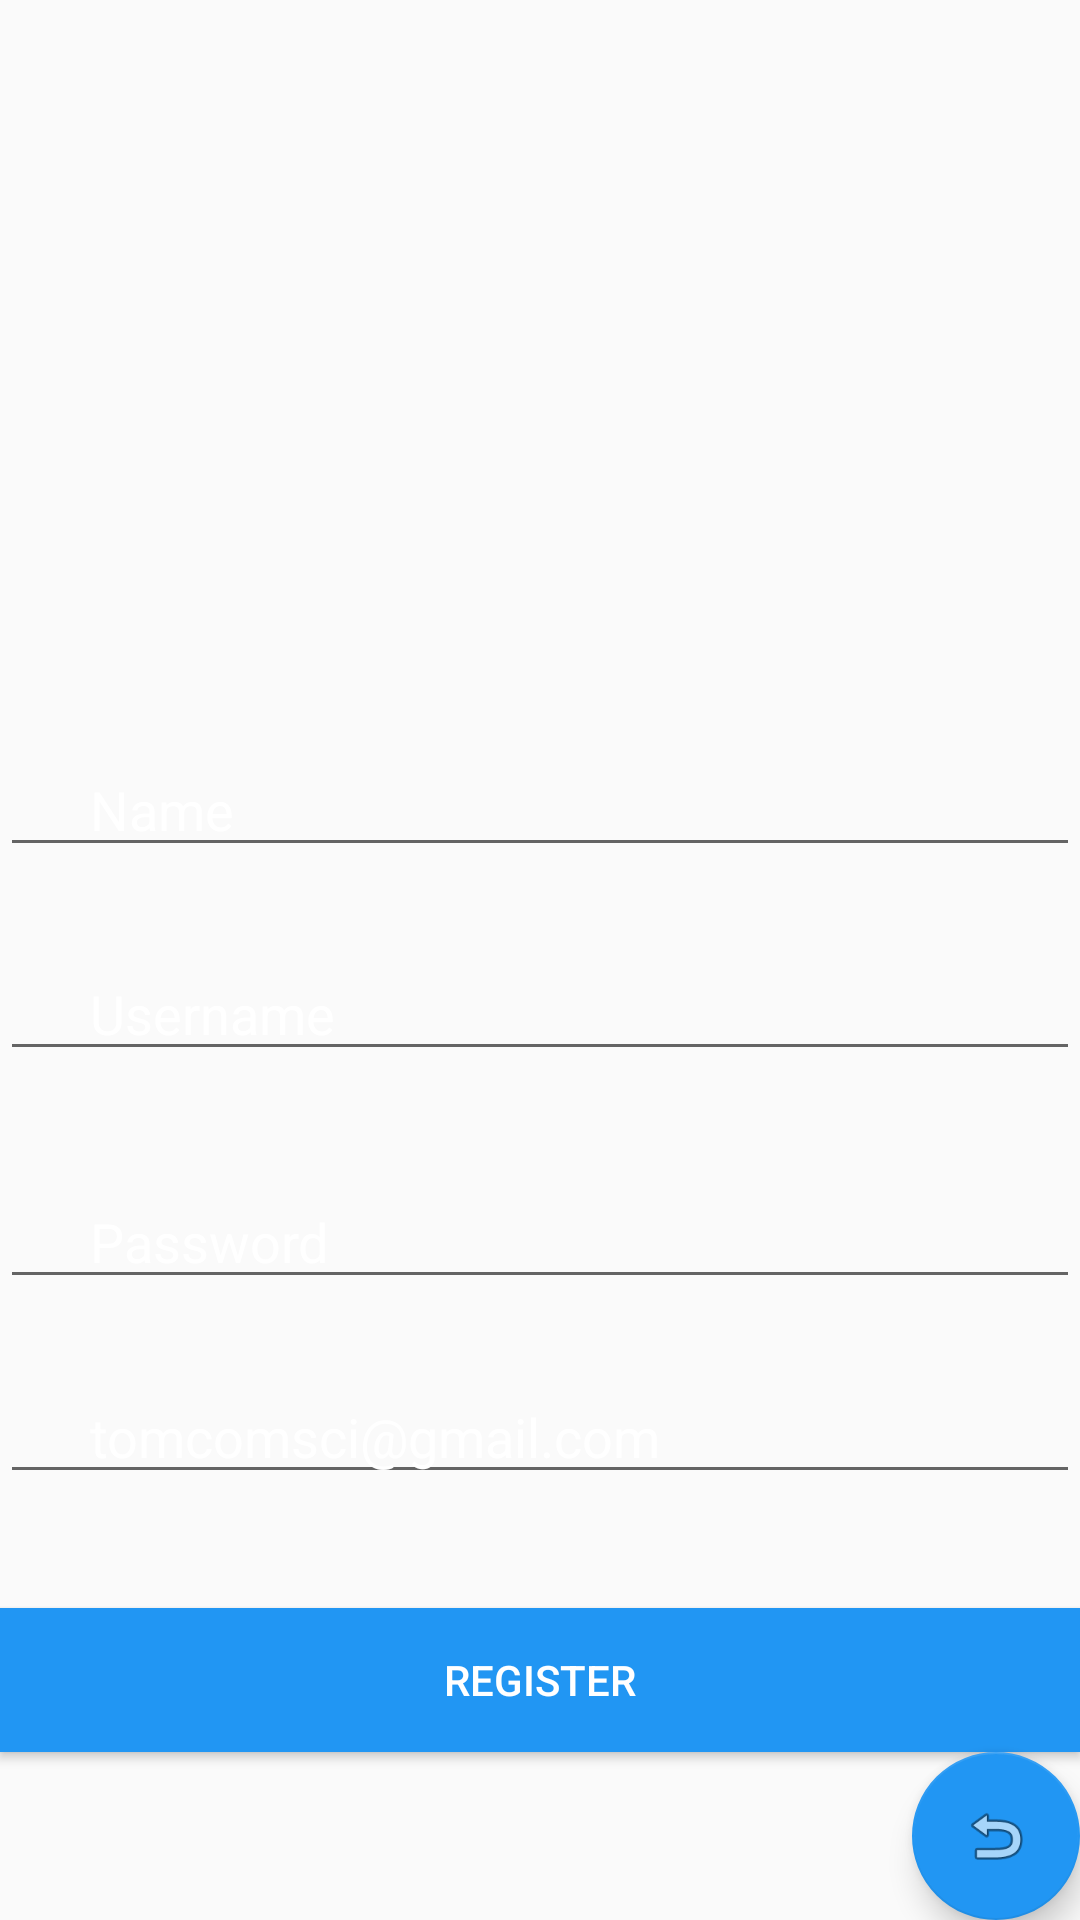

Named icons in this screenshot (1080 × 1920) and their centers, (x=x, y=y):
revert: (x=996, y=1836)
